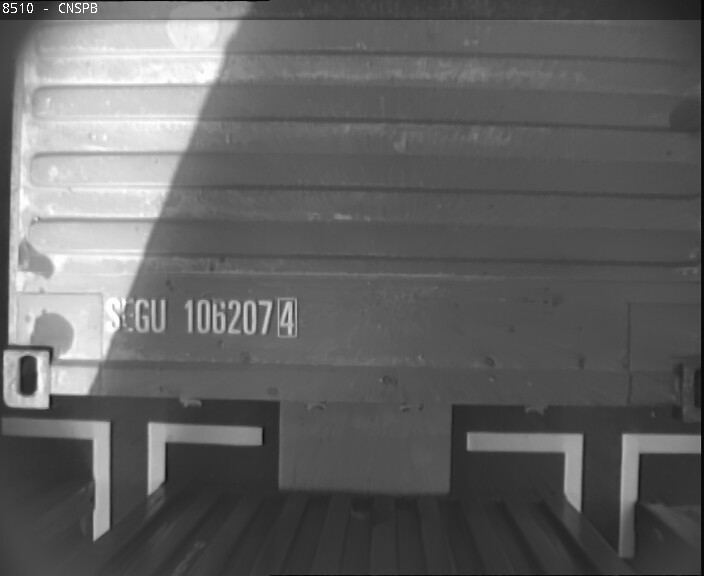groundmarker_1: (1, 418, 260, 541), (468, 432, 704, 558)
